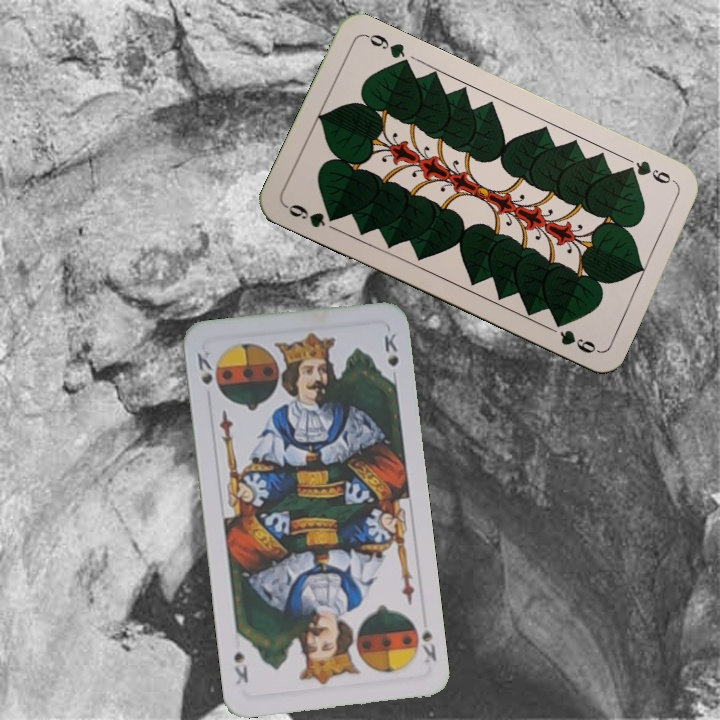G9: (281, 200, 341, 231), (620, 156, 679, 187)
SK: (193, 347, 221, 394), (417, 625, 440, 666)
